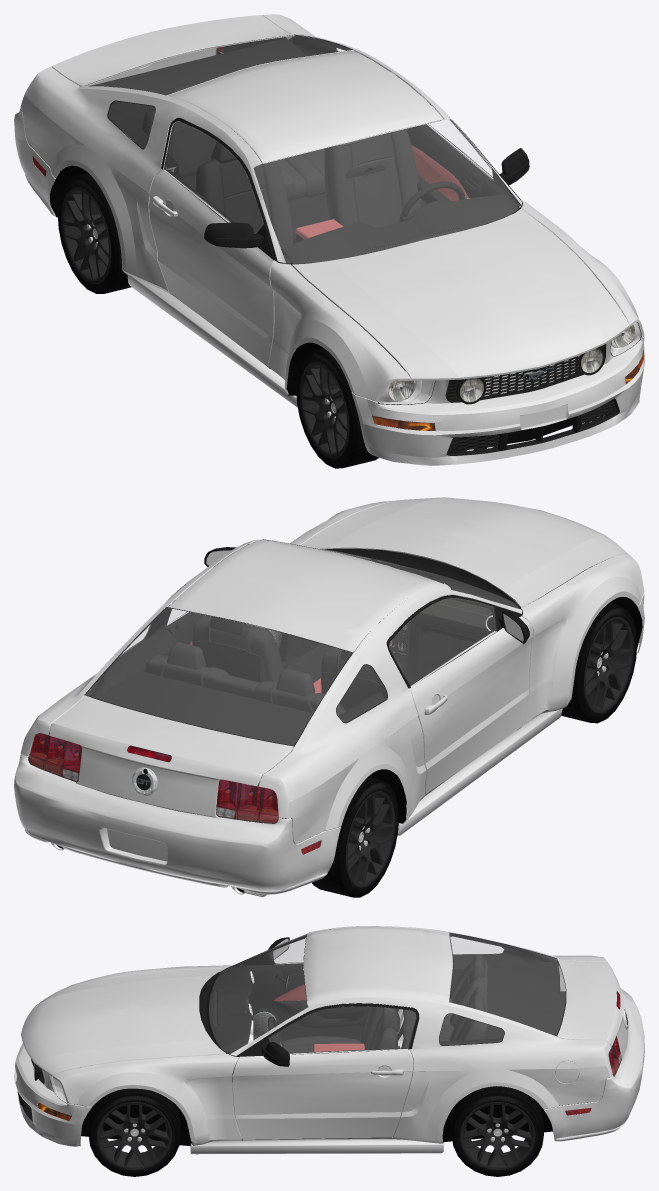
File: mustang-gt.glb
3 views of the same model, one above another, from view 1: azimuth 30°, elevation 25°; view 2: azimuth 150°, elevation 25°; view 3: azimuth 270°, elevation 25° (orthographic). The views are drawn at different scales.
Parts seen in each view (by area): view 1: body_Carpaint Flakes Ruby_0, headlight housing_Glass Clear_0, tire_rubbr2_0, bottm_fullblack_0, headlight housing_Material #1636_0, tire_rubbr1_0, msngv6front bumper_Material #288_0; view 2: body_Carpaint Flakes Ruby_0, headlight housing_Glass Clear_0, tailight_Material #78_0, tire_rubbr2_0, tire_rubbr1_0, bottm_fullblack_0, GaugeDashBoard_Material #1416_0; view 3: body_Carpaint Flakes Ruby_0, headlight housing_Glass Clear_0, tire_rubbr2_0, bottm_fullblack_0, tire_rubbr1_0, tailight_Material #78_0.
Boxes of the visible parts, x1,y1,x2,y2 form: body_Carpaint Flakes Ruby_0: [14, 14, 644, 465]; headlight housing_Glass Clear_0: [33, 35, 643, 403]; tire_rubbr2_0: [57, 176, 357, 468]; bottm_fullblack_0: [50, 165, 639, 449]; headlight housing_Material #1636_0: [388, 325, 634, 402]; tire_rubbr1_0: [75, 173, 378, 467]; msngv6front bumper_Material #288_0: [372, 350, 644, 430]; body_Carpaint Flakes Ruby_0: [14, 497, 644, 897]; headlight housing_Glass Clear_0: [28, 544, 519, 844]; tailight_Material #78_0: [28, 733, 278, 823]; tire_rubbr2_0: [97, 605, 637, 897]; tire_rubbr1_0: [312, 603, 620, 897]; bottm_fullblack_0: [76, 561, 642, 841]; GaugeDashBoard_Material #1416_0: [420, 598, 492, 628]; body_Carpaint Flakes Ruby_0: [14, 926, 644, 1169]; headlight housing_Glass Clear_0: [34, 933, 621, 1106]; tire_rubbr2_0: [88, 1093, 543, 1176]; bottm_fullblack_0: [45, 1041, 590, 1154]; tire_rubbr1_0: [88, 1086, 543, 1134]; tailight_Material #78_0: [608, 991, 621, 1076].
Size of the model in its own units: 1.93 by 1.27 by 4.31.
46 materials, 46 textured.
